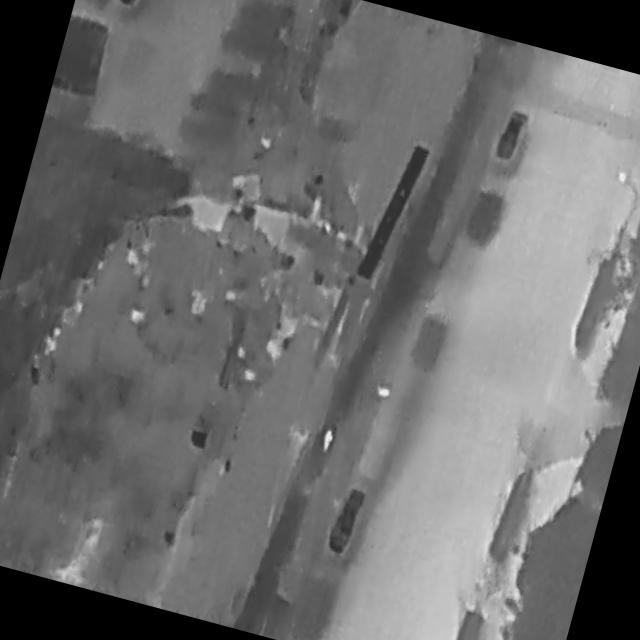person: (320, 429, 335, 453)
